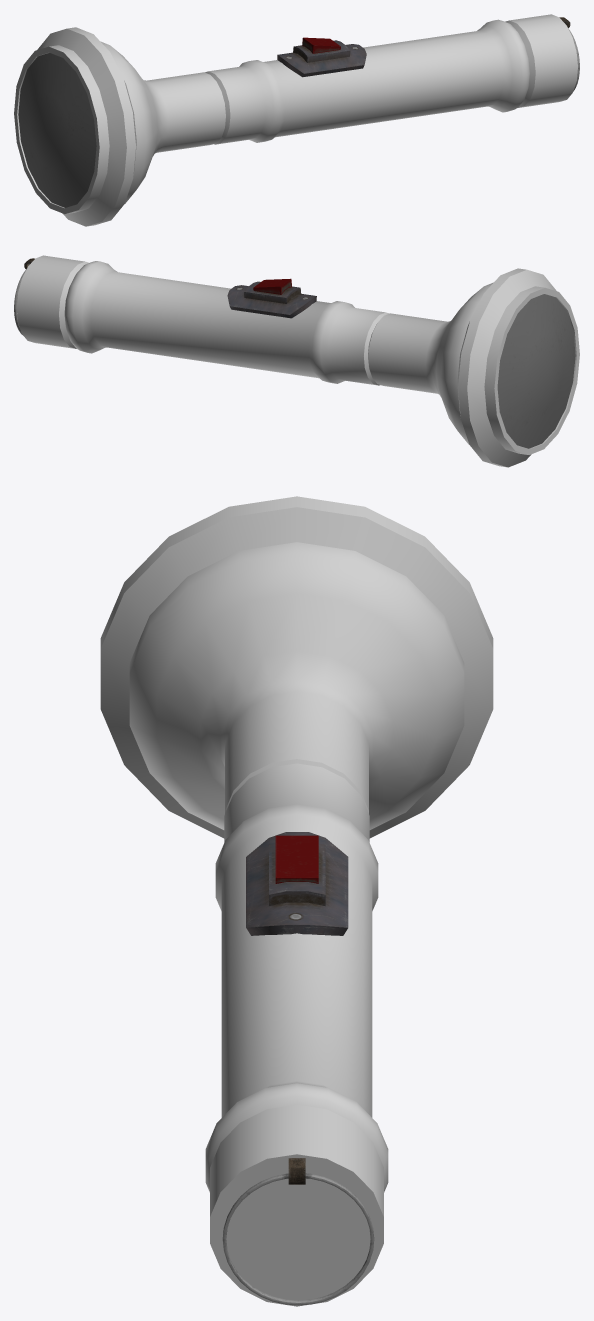
The model's file is flashlight 1.obj.
3 views of the same model, one above another, from view 1: azimuth 30°, elevation 25°; view 2: azimuth 150°, elevation 25°; view 3: azimuth 270°, elevation 25° (orthographic). The views are drawn at different scales.
Visible parts, largest first — view 1: Object_3_Object_1_Flashlight, Object_4_Object_2_Linza, Object_2_Object_0_Button; view 2: Object_3_Object_1_Flashlight, Object_4_Object_2_Linza, Object_2_Object_0_Button; view 3: Object_3_Object_1_Flashlight, Object_2_Object_0_Button, Object_6_Object_4_Ring.
Part boxes in pixels (box(x1,y1,x2,y2)): Object_3_Object_1_Flashlight: box(14, 14, 577, 226); Object_4_Object_2_Linza: box(18, 52, 96, 207); Object_2_Object_0_Button: box(277, 37, 366, 77); Object_3_Object_1_Flashlight: box(16, 255, 579, 467); Object_4_Object_2_Linza: box(497, 294, 575, 448); Object_2_Object_0_Button: box(227, 278, 316, 318); Object_3_Object_1_Flashlight: box(100, 496, 493, 1306); Object_2_Object_0_Button: box(246, 832, 348, 935); Object_6_Object_4_Ring: box(222, 1158, 374, 1305).
Size of the model in its own units: 100 by 33.14 by 32.62.
